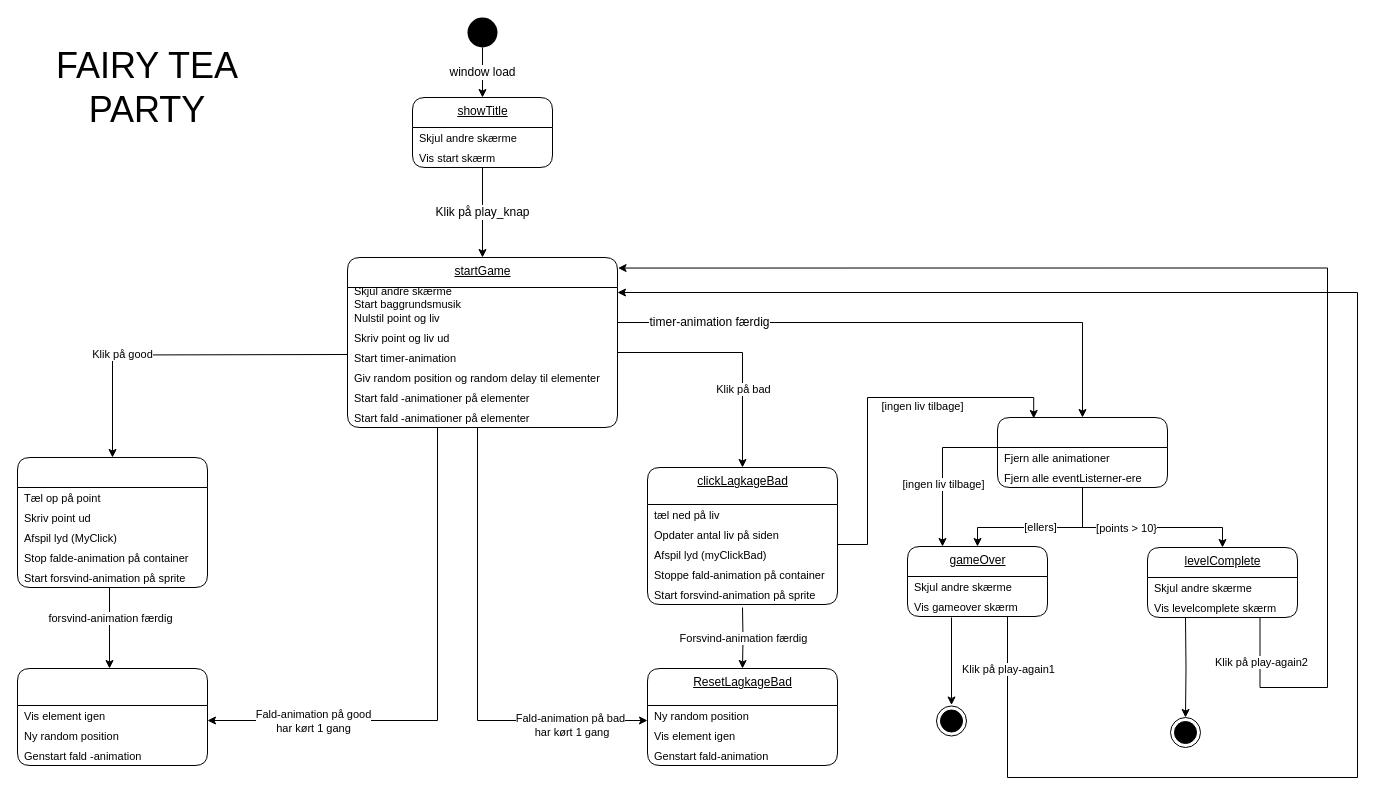
Image size: 1383x803. Some labels were removed from this diagram. Each missing label, with the box of its shape:
clickCupcake: (16, 456, 208, 588)
endGame: (996, 416, 1168, 488)
resetCupcake: (16, 668, 208, 766)
